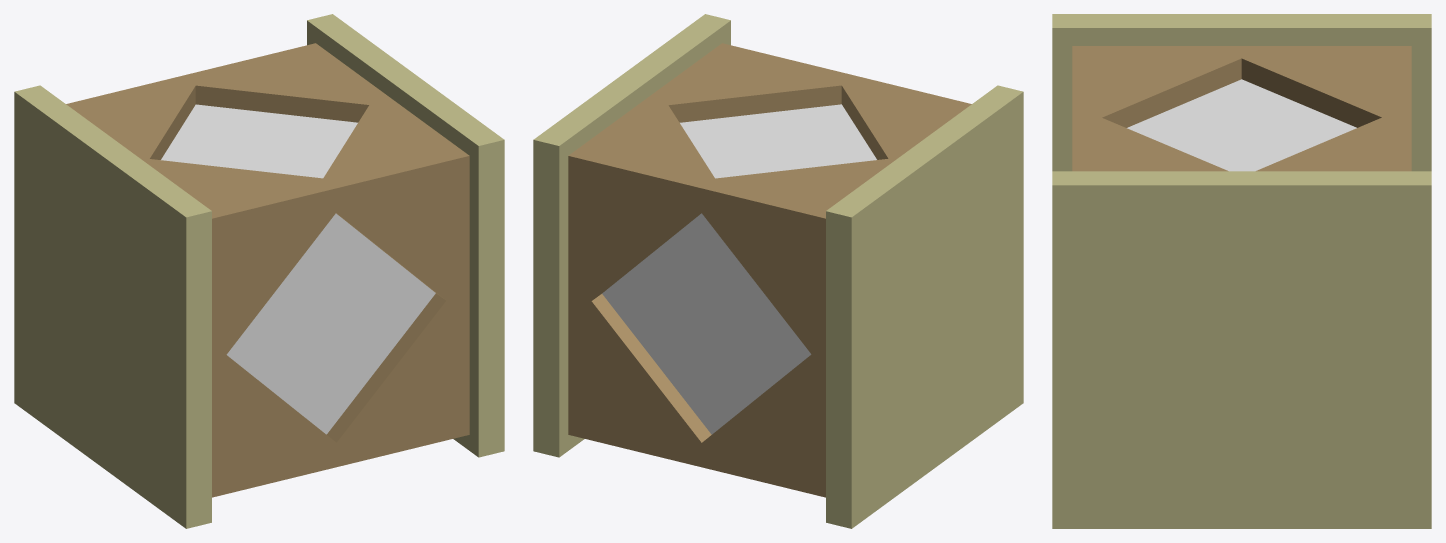
File: ChargeCubePlatform.fbx
The picture shows the model from 3 angles, left to right: view 1: azimuth 30°, elevation 25°; view 2: azimuth 150°, elevation 25°; view 3: azimuth 270°, elevation 25°; orthographic projection. The views are drawn at different scales.
Parts seen in each view (by area): view 1: pCube1; view 2: pCube1; view 3: pCube1.
Boxes of the visible parts, x1,y1,x2,y2 form: pCube1: (14, 14, 504, 528); pCube1: (533, 14, 1023, 528); pCube1: (1052, 14, 1431, 528).
Bounding box in the file's own units: 1968 × 1840 × 1840.
